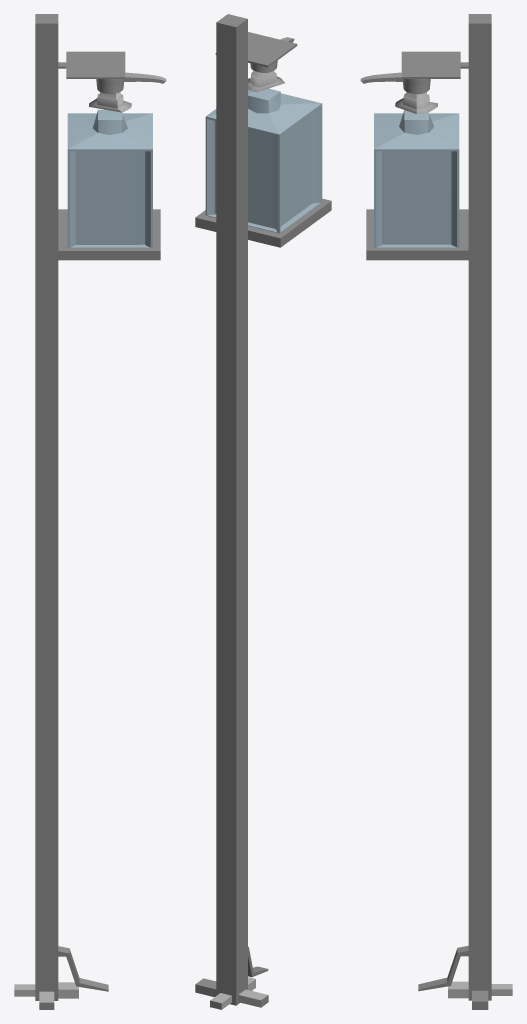
The model's file is jabonconcoso.fbx.
The picture shows the model from 3 angles, left to right: view 1: azimuth 90°, elevation 25°; view 2: azimuth 150°, elevation 25°; view 3: azimuth 270°, elevation 25°; orthographic projection.
Parts seen in each view (by area): view 1: jabonconcosoOk; view 2: jabonconcosoOk; view 3: jabonconcosoOk.
Boxes of the visible parts, <box> form: jabonconcosoOk: <box>14,14,166,1009</box>; jabonconcosoOk: <box>195,14,331,1009</box>; jabonconcosoOk: <box>360,14,512,1009</box>.
Size of the model in its own units: 0.1138 by 1.25 by 0.1759.
